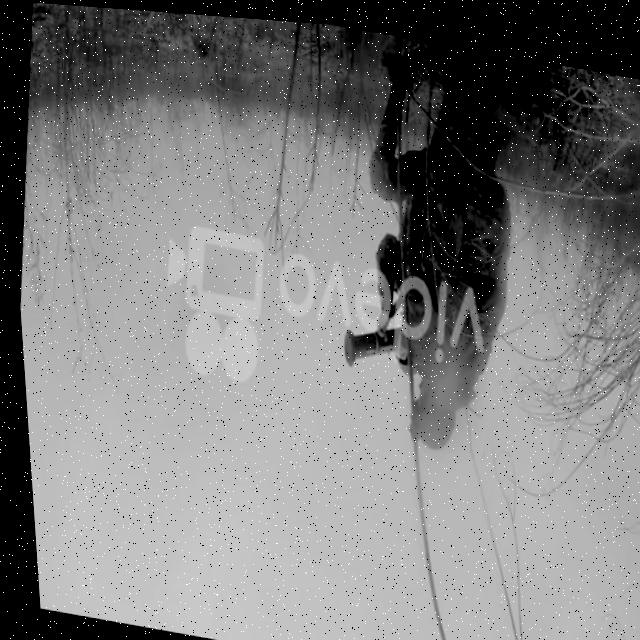rocket: (334, 297, 400, 370)
